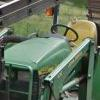Tractor: (7, 18, 100, 100)
